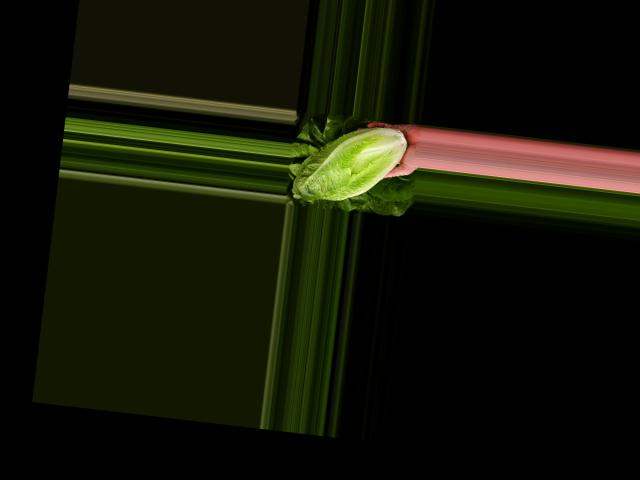lettuce: (290, 114, 410, 211)
